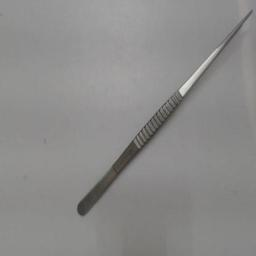DeBakey Dissector: (70, 4, 256, 224)
